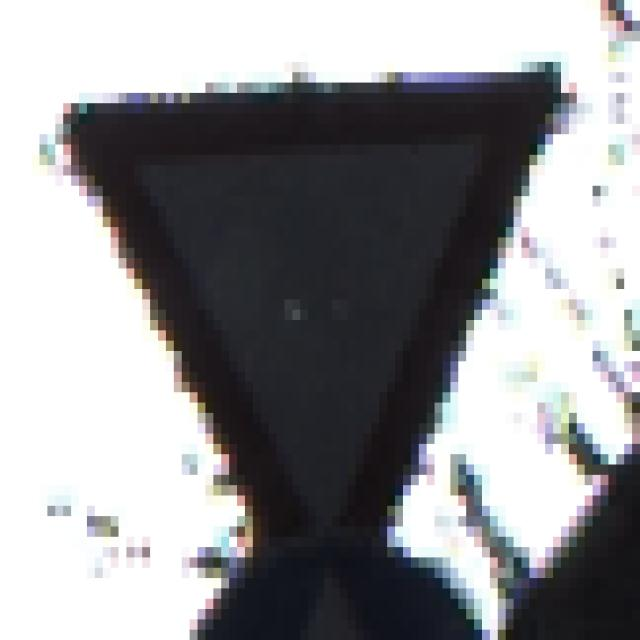Give Way: (56, 53, 586, 590)
